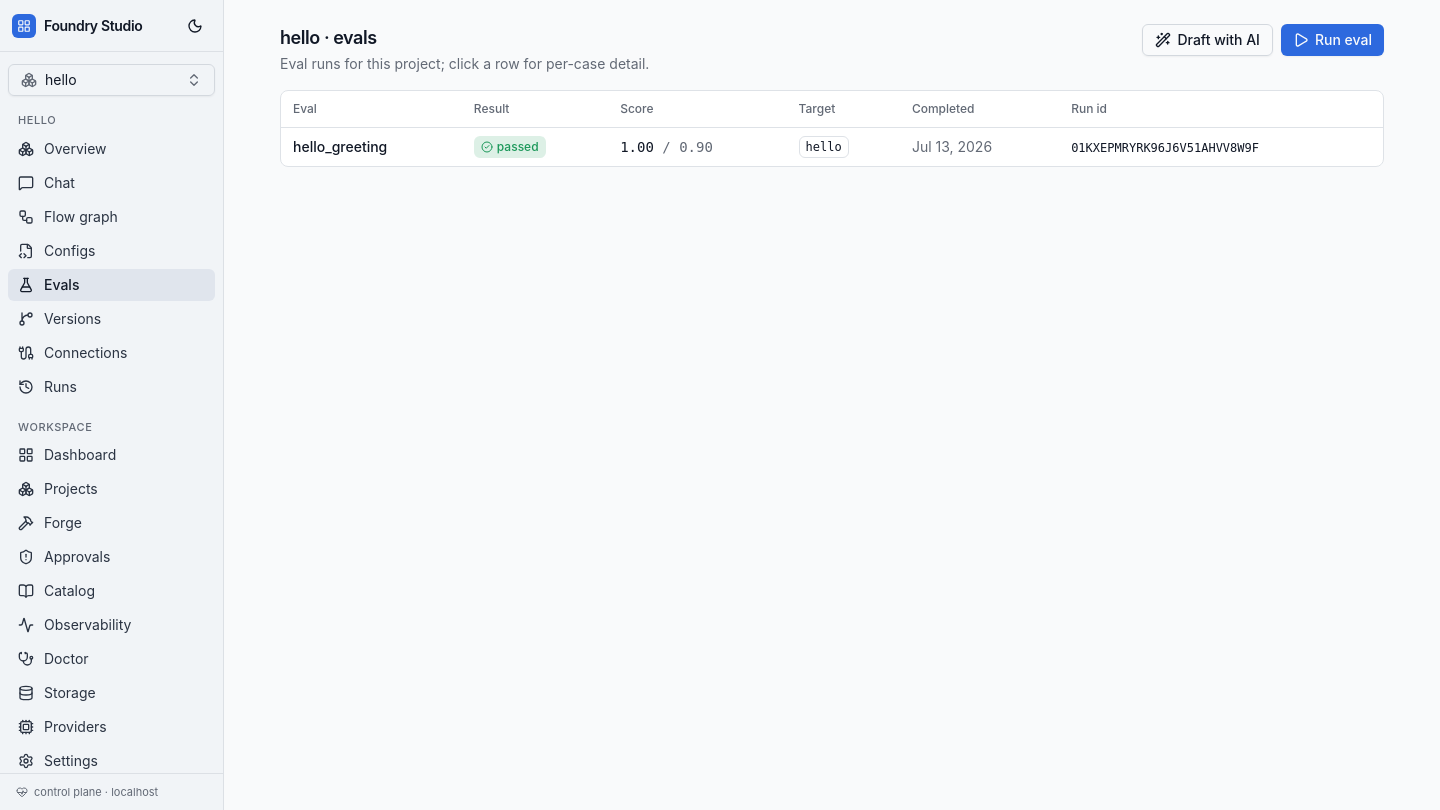
Scenario: evals › launches an eval as a background task
Expected: the text "hello_greeting" is shown, [293,138,387,154]
Click the button "Run eval" at [1332, 40], box [1281,24,1384,56]
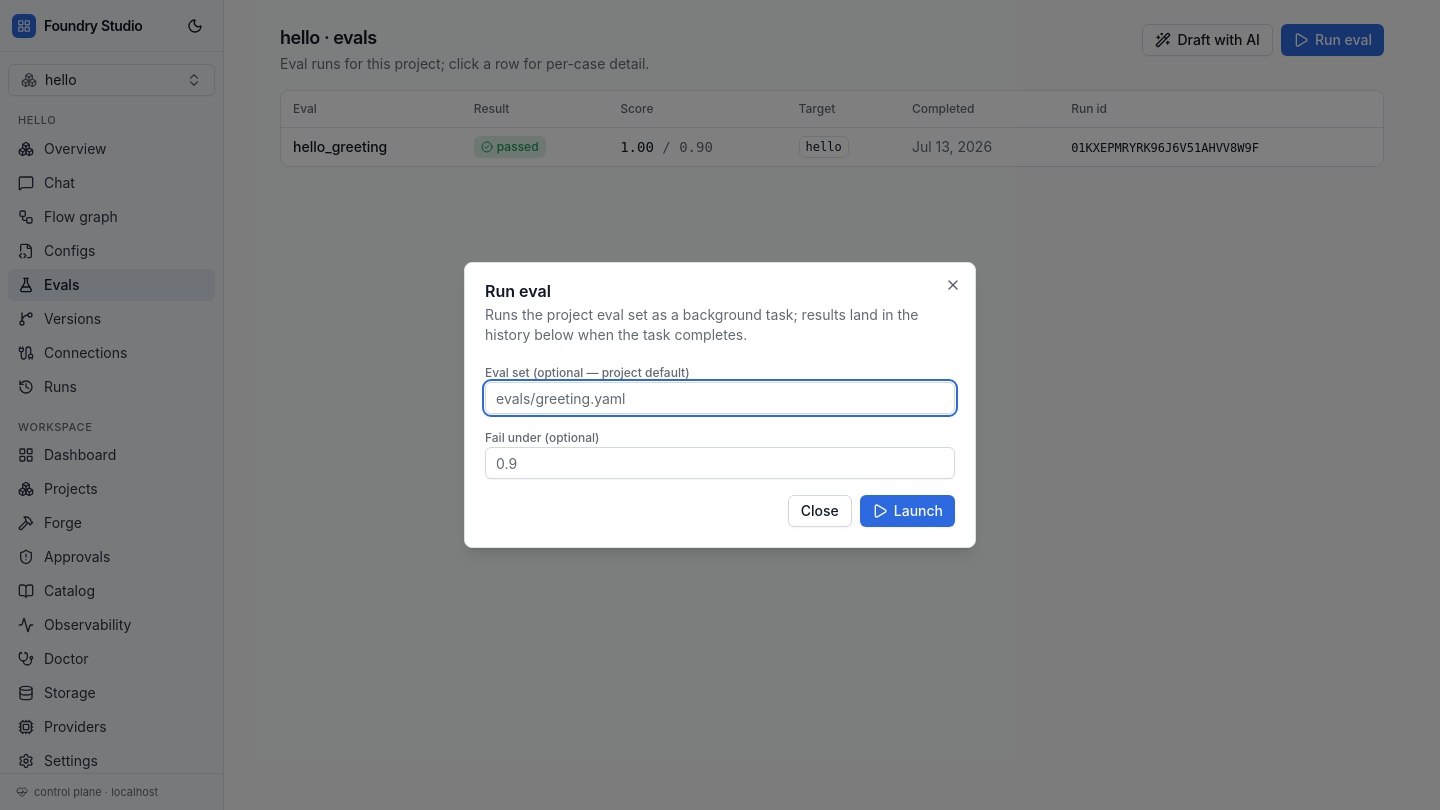
Click the button "Launch" at [907, 511], box [860,495,955,527]
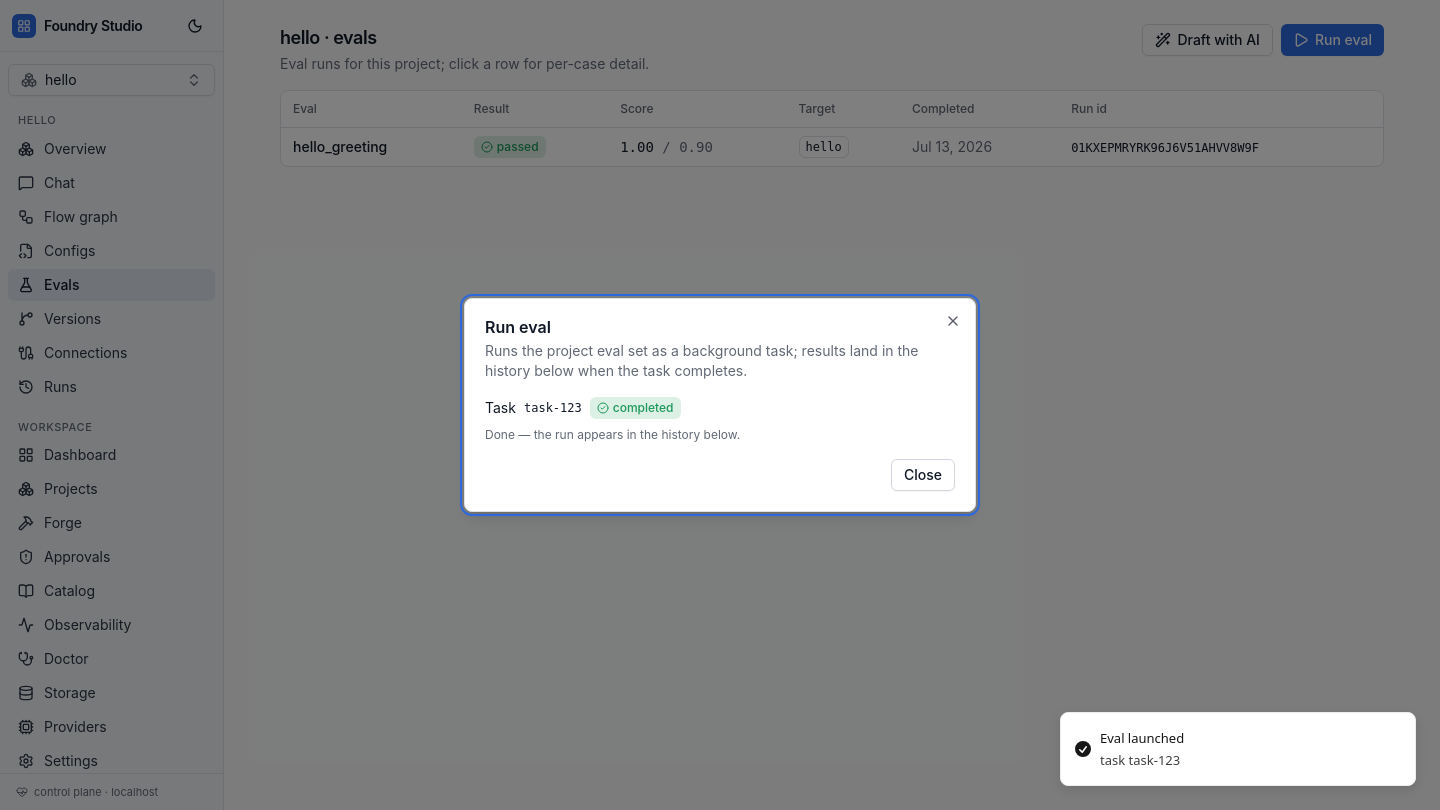
Expected: the text "task-123" is shown, [524,400,582,416]
Expected: the text "completed" is shown, [590,397,681,419]
